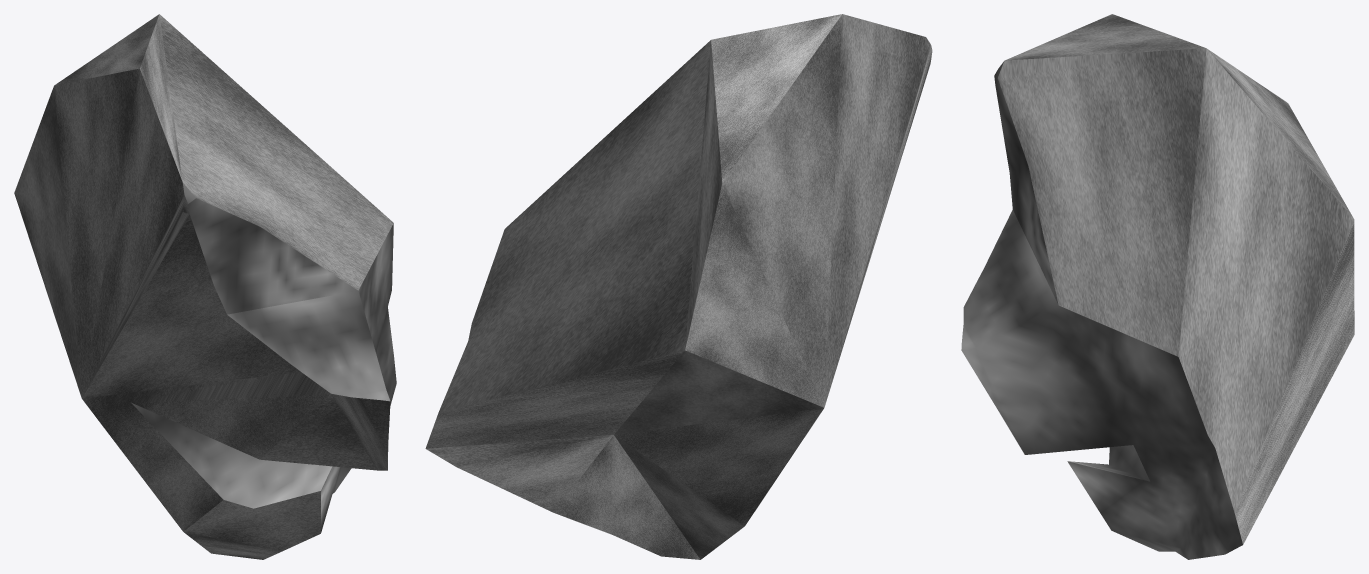
Rendered from body_cell_076.fbx.
The picture shows the model from 3 angles, left to right: view 1: azimuth 30°, elevation 25°; view 2: azimuth 150°, elevation 25°; view 3: azimuth 270°, elevation 25°; orthographic projection. The views are drawn at different scales.
Parts seen in each view (by area): view 1: body_cell.076; view 2: body_cell.076; view 3: body_cell.076.
Boxes of the visible parts, x1,y1,x2,y2 form: body_cell.076: [14, 14, 396, 559]; body_cell.076: [425, 14, 932, 559]; body_cell.076: [961, 14, 1354, 559].
Bounding box in the file's own units: 28.39 × 41.98 × 31.54.
